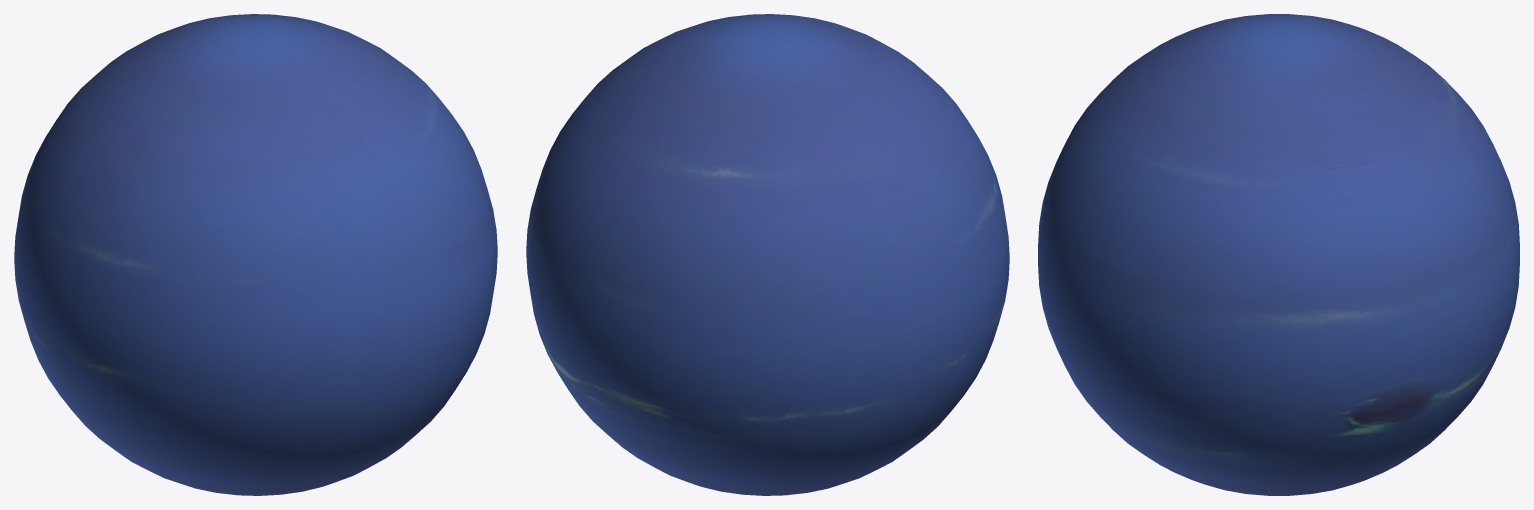
File: neptune.obj
3 views of the same model, side by side, from view 1: azimuth 30°, elevation 25°; view 2: azimuth 150°, elevation 25°; view 3: azimuth 270°, elevation 25° (orthographic).
Visible parts, largest first — view 1: Neptune.001_Sphere.003; view 2: Neptune.001_Sphere.003; view 3: Neptune.001_Sphere.003.
Part boxes in pixels (x1,y1,x2,y2): Neptune.001_Sphere.003: (14, 14, 497, 495); Neptune.001_Sphere.003: (526, 14, 1009, 495); Neptune.001_Sphere.003: (1038, 14, 1519, 495).
Size of the model in its own units: 2.47 by 2.48 by 2.47.
1 material, 1 textured.
